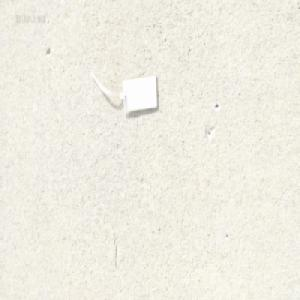LuggageTag: (87, 69, 158, 116)
